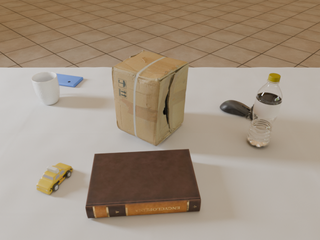book: (86, 149, 201, 218)
bottle: (247, 73, 283, 148)
box: (112, 50, 189, 146)
cup: (32, 72, 60, 105)
mouse: (220, 100, 254, 120)
phone: (57, 74, 83, 87)
toy_car: (37, 163, 73, 194)
